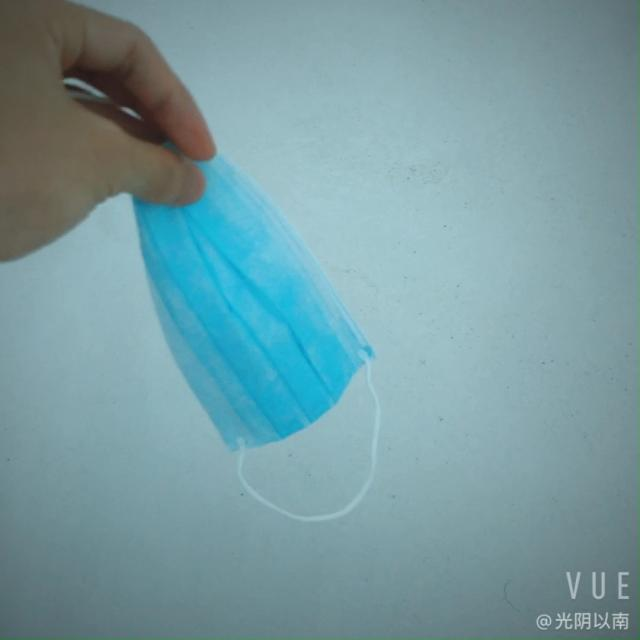face mask: (119, 138, 370, 453)
